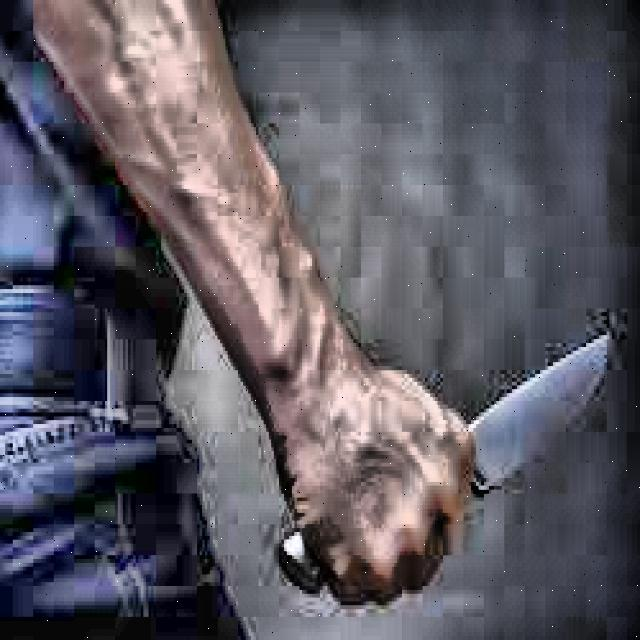knife: (281, 335, 608, 594)
